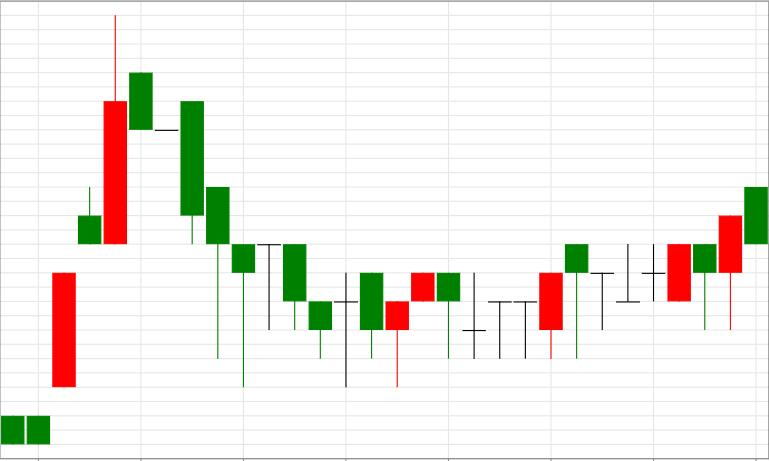hammer_rise: (129, 73, 408, 387), (129, 73, 254, 388)
hanging_man_fall: (462, 244, 588, 359)
